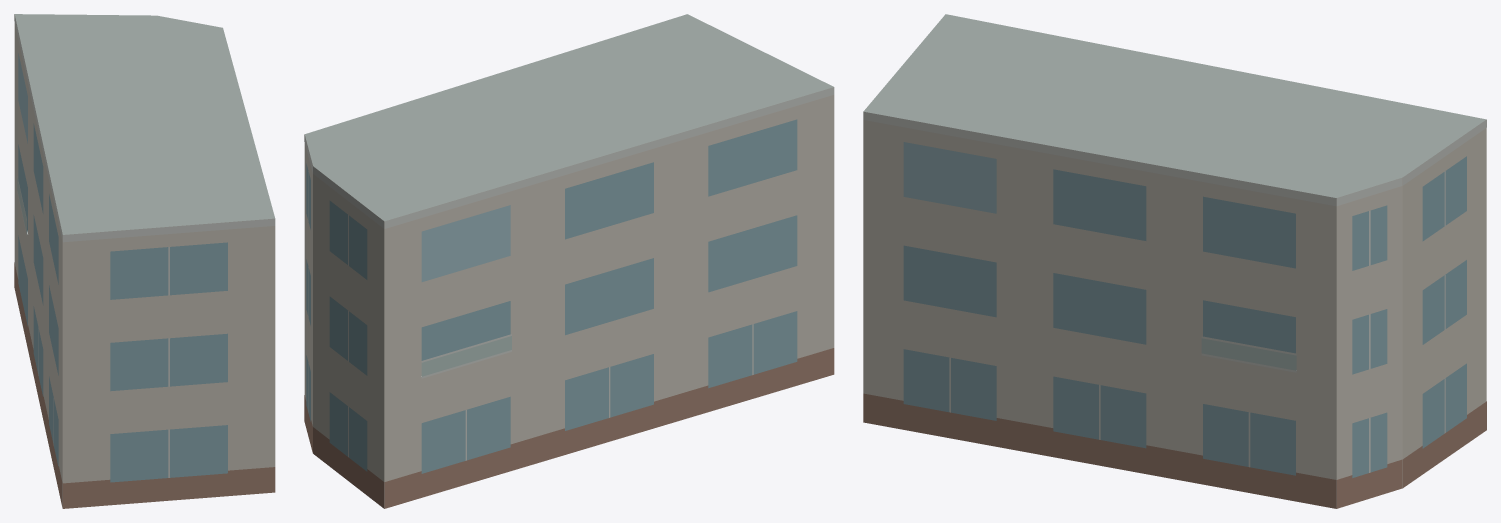
Rendered from survey-upis-32651415.glb.
3 views of the same model, side by side, from view 1: azimuth 30°, elevation 25°; view 2: azimuth 150°, elevation 25°; view 3: azimuth 270°, elevation 25° (orthographic). The views are drawn at different scales.
Parts seen in each view (by area): view 1: survey-upis-32651415.tmp; view 2: survey-upis-32651415.tmp; view 3: survey-upis-32651415.tmp.
Boxes of the visible parts, left/top/right/bottom form: survey-upis-32651415.tmp: left=14, top=14, right=275, bottom=508; survey-upis-32651415.tmp: left=304, top=14, right=834, bottom=508; survey-upis-32651415.tmp: left=863, top=14, right=1486, bottom=508.
Size of the model in its own units: 11.63 by 9.15 by 16.65.
